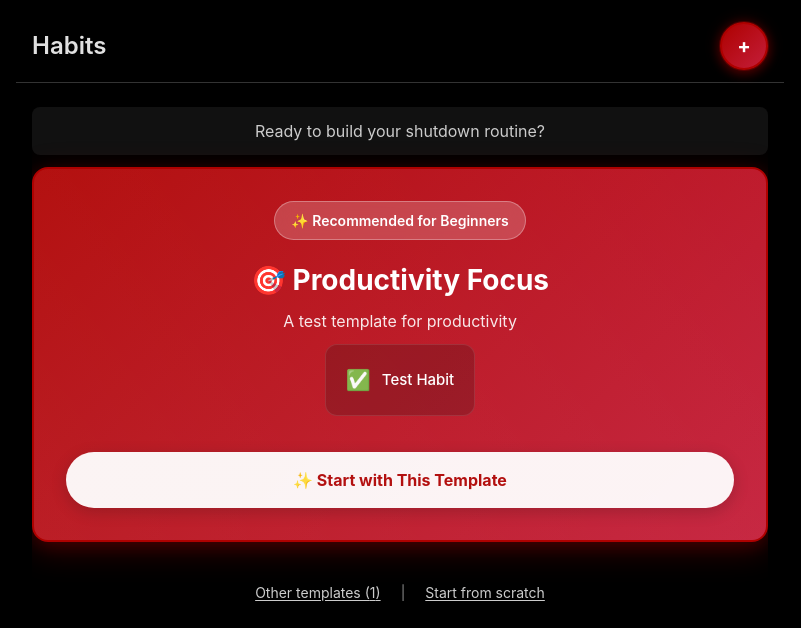
HabitManager › Template Navigation › should return to featured template view when back button is clicked
Note: Go to all templates view
Click the button "Other templates (1)" at (318, 592), box [247, 574, 389, 611]
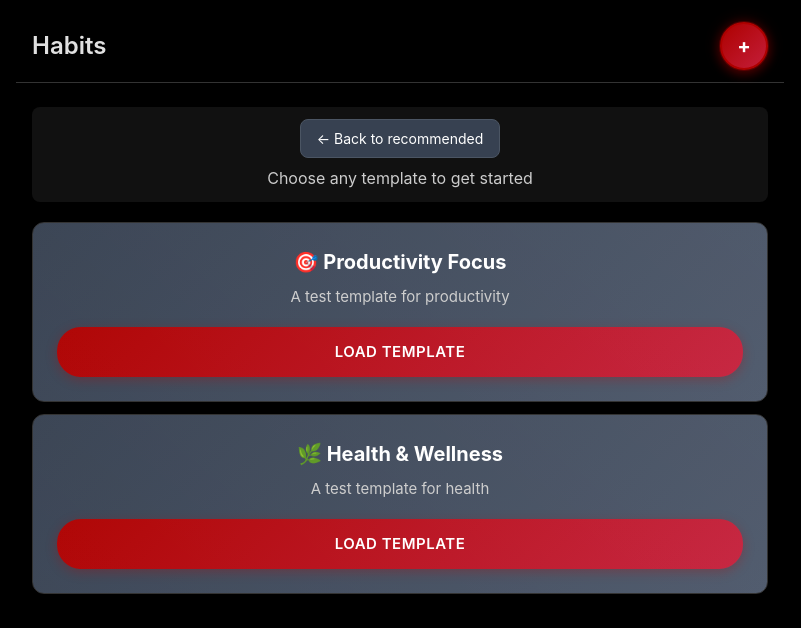
Expected: the button "← Back to recommended" is shown
Note: Click back button
Click the button "← Back to recommended" at (400, 138), box [300, 119, 500, 158]
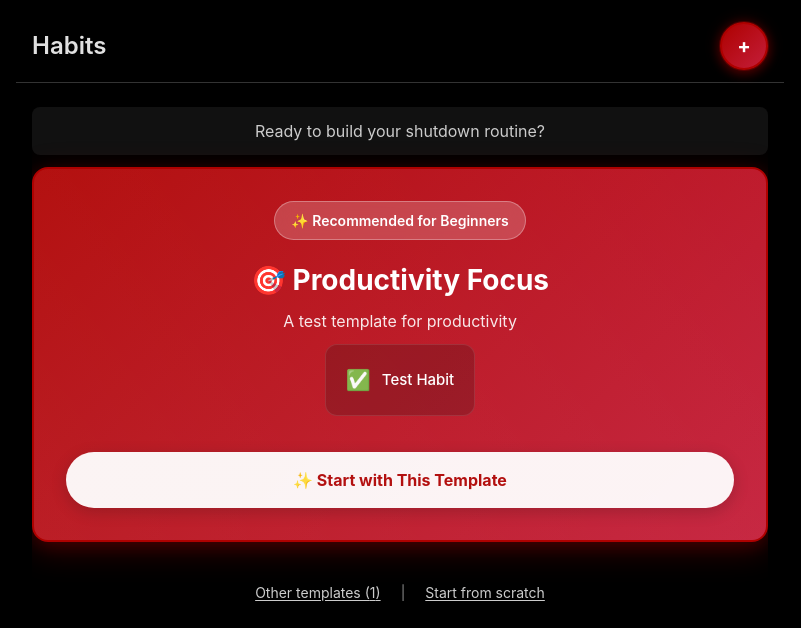
Expected: the text "✨ Recommended for Beginners" is shown, [274, 201, 526, 240]
Expected: the button "← Back to recommended" is gone
